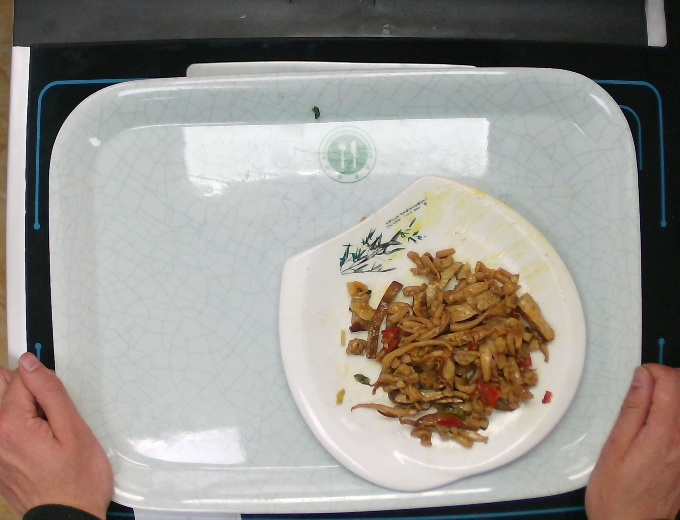JYsf-Mian_Pan: (271, 170, 592, 495)
